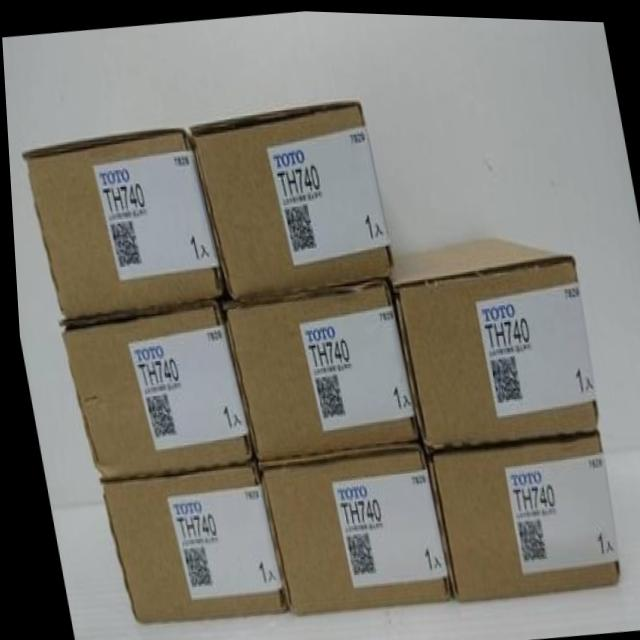box: (389, 232, 593, 442), (187, 98, 389, 300), (21, 126, 219, 316), (217, 273, 414, 460), (54, 298, 249, 481), (252, 439, 445, 615), (419, 428, 614, 599), (95, 460, 281, 621)
